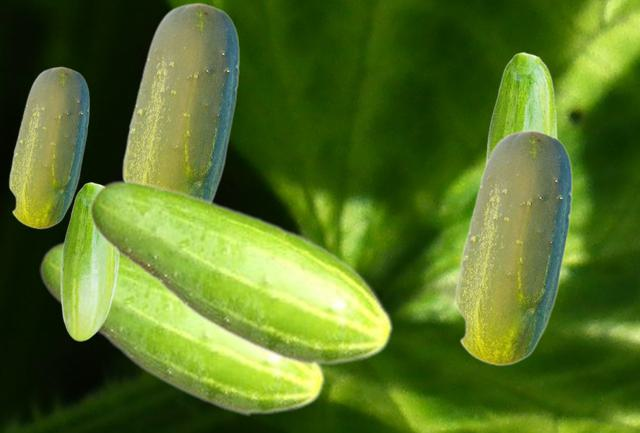cucumber: (88, 179, 393, 367), (39, 240, 325, 416), (454, 129, 571, 365), (121, 2, 238, 200), (8, 66, 88, 228), (60, 182, 118, 340), (485, 52, 556, 162)
